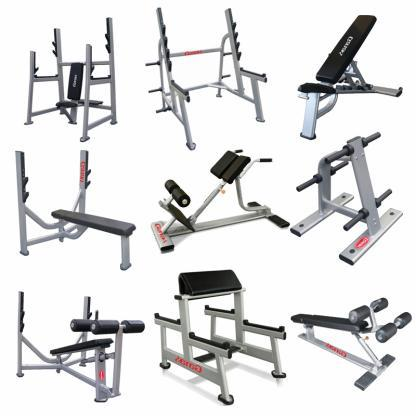arm curl machine: (155, 269, 287, 406)
